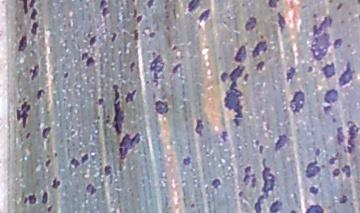tarspot: (222, 44, 246, 126), (253, 157, 275, 213), (310, 15, 333, 60), (111, 82, 125, 135), (118, 131, 140, 161), (148, 49, 165, 87), (343, 118, 359, 154), (337, 61, 356, 88), (15, 100, 32, 129), (321, 87, 339, 113), (288, 90, 305, 114), (242, 164, 257, 189), (251, 40, 270, 59), (320, 61, 338, 80), (304, 159, 320, 180), (153, 98, 170, 116), (80, 51, 96, 68), (275, 10, 286, 34), (273, 133, 288, 150), (197, 8, 212, 25), (184, 1, 202, 15), (243, 16, 258, 32), (16, 34, 28, 53), (27, 64, 40, 81), (284, 66, 297, 82), (97, 1, 110, 17), (336, 124, 345, 147), (304, 203, 324, 213), (194, 117, 204, 137), (269, 199, 283, 213), (327, 151, 341, 165), (124, 89, 137, 103), (41, 125, 52, 141), (170, 61, 182, 74), (85, 183, 97, 196), (79, 152, 91, 165), (341, 164, 352, 178), (27, 192, 38, 206), (103, 164, 114, 178), (30, 21, 41, 35), (29, 7, 39, 22), (36, 87, 46, 102), (210, 178, 222, 190), (50, 176, 60, 190), (255, 60, 266, 72), (181, 156, 194, 166), (332, 36, 342, 49), (69, 157, 79, 170), (220, 128, 228, 144), (21, 1, 30, 15), (308, 184, 319, 195), (266, 1, 281, 9), (132, 27, 140, 41), (337, 194, 348, 204), (331, 167, 341, 178), (144, 1, 156, 10), (88, 35, 97, 47), (41, 190, 48, 205), (135, 13, 144, 24), (128, 61, 136, 73), (110, 30, 118, 42), (44, 157, 52, 169), (257, 144, 265, 155), (219, 71, 227, 82), (22, 195, 29, 207), (62, 70, 71, 79), (24, 131, 33, 140), (243, 72, 250, 83), (236, 190, 245, 198), (306, 64, 313, 74), (148, 30, 155, 40), (335, 1, 342, 11), (314, 147, 321, 157), (258, 32, 265, 42), (131, 8, 137, 19), (104, 112, 112, 120), (330, 115, 337, 124), (96, 96, 103, 105), (46, 204, 53, 213), (254, 137, 260, 147), (311, 12, 318, 20), (28, 1, 36, 8), (171, 44, 178, 52), (104, 118, 111, 125), (53, 150, 59, 158), (287, 209, 298, 213), (189, 202, 195, 209), (345, 10, 352, 16), (339, 19, 346, 24), (346, 42, 351, 48), (95, 115, 100, 121), (326, 1, 333, 4), (355, 1, 360, 5), (131, 1, 136, 4)
